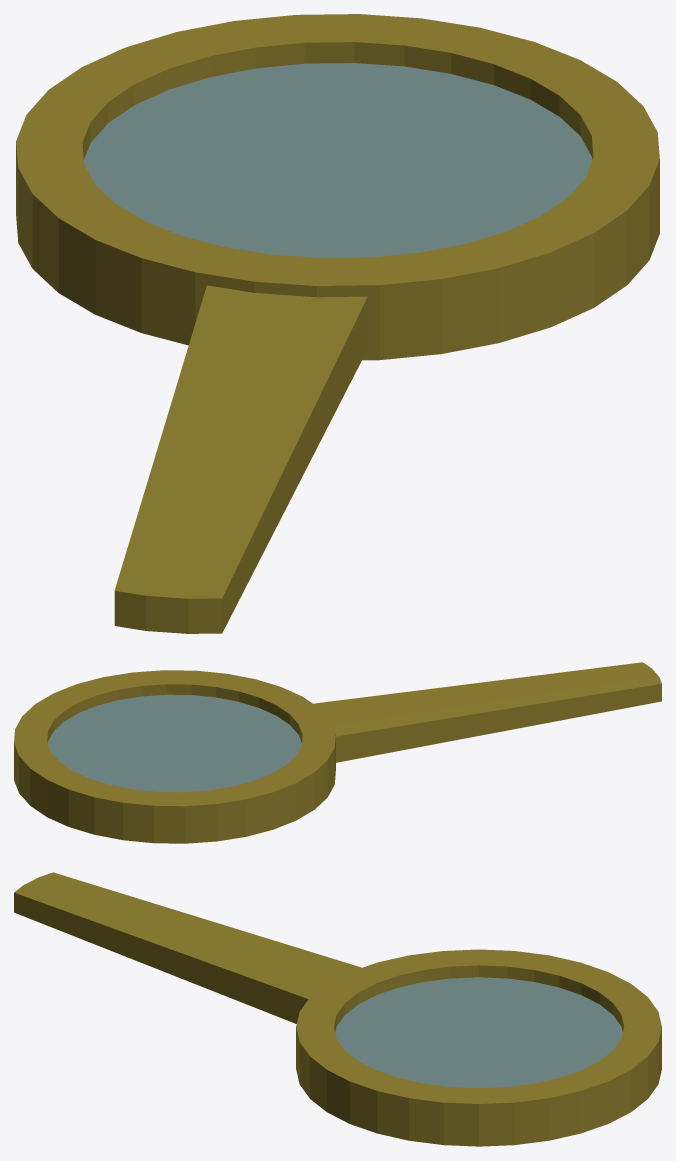
The model's file is MagnifyingGlass.fbx.
3 views of the same model, one above another, from view 1: azimuth 30°, elevation 25°; view 2: azimuth 150°, elevation 25°; view 3: azimuth 270°, elevation 25° (orthographic). The views are drawn at different scales.
Parts seen in each view (by area): view 1: Cylinder.011; view 2: Cylinder.011; view 3: Cylinder.011.
Boxes of the visible parts, left/top/right/bottom form: Cylinder.011: left=16, top=14, right=659, bottom=633; Cylinder.011: left=14, top=662, right=661, bottom=843; Cylinder.011: left=14, top=872, right=661, bottom=1146.
Bounding box in the file's own units: 62.46 × 5.1 × 70.38.
